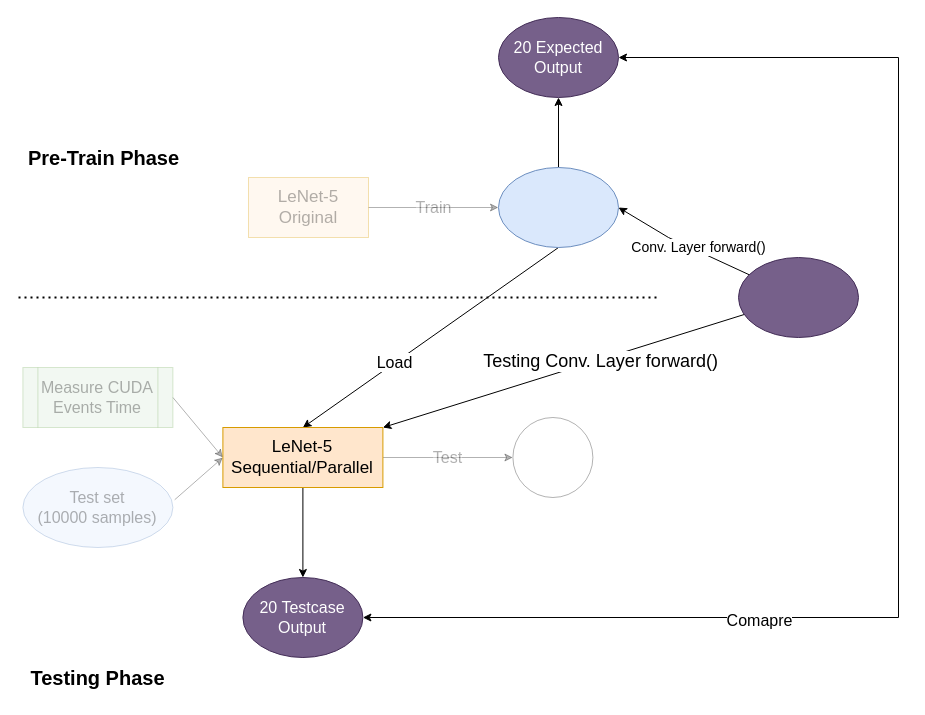
Image size: 925x715. Some labels were removed from this diagram. The shapes that lost their labels are listed below. From the top down, each one's centre as x and y in pixels, then its label:
point 558,207: Weights Matrix
point 798,297: 20 Input Testcase
point 552,457: Accuracy Time
